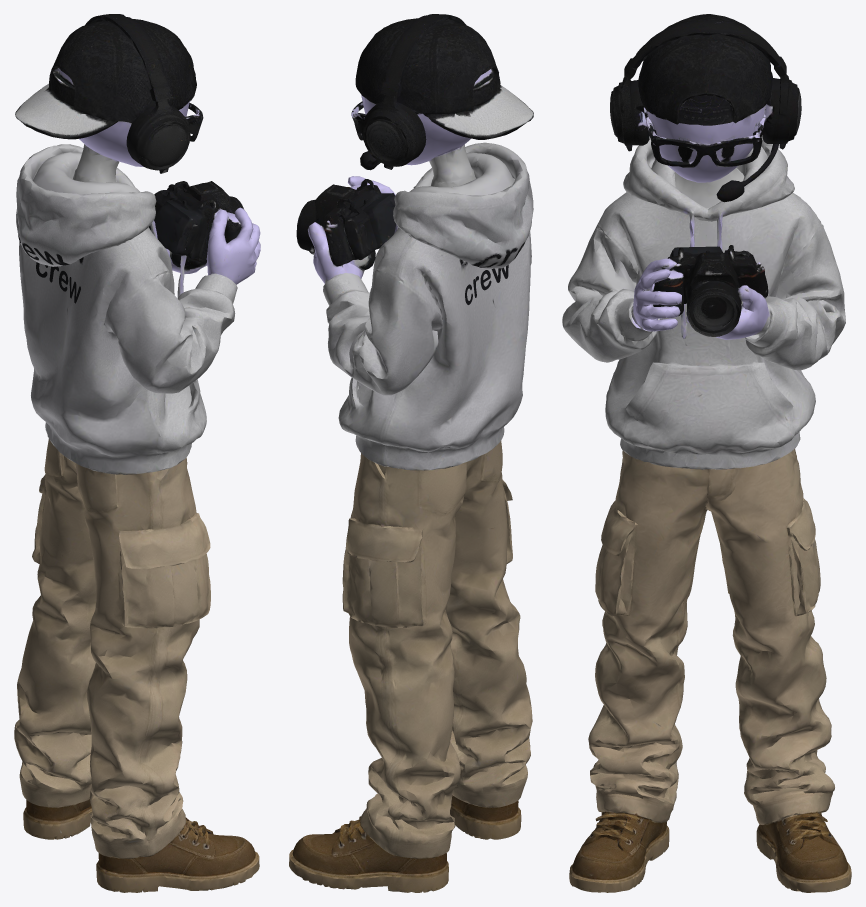
File: HandheldPhoto.obj
The picture shows the model from 3 angles, left to right: view 1: azimuth 30°, elevation 25°; view 2: azimuth 150°, elevation 25°; view 3: azimuth 270°, elevation 25°; orthographic projection.
Visible parts, largest first — view 1: Operator; view 2: Operator; view 3: Operator.
Part boxes in pixels (<box>): Operator: <box>14,14,260,892</box>; Operator: <box>289,14,533,892</box>; Operator: <box>562,14,851,892</box>.
Bounding box in the file's own units: 48.62 × 175 × 54.78.
2 materials, 2 textured.
